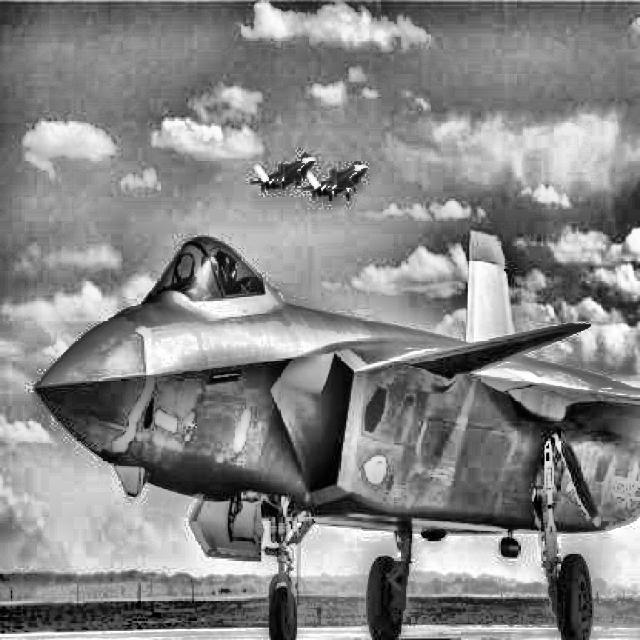J20: (32, 235, 640, 639), (302, 161, 368, 201), (250, 153, 316, 192)
